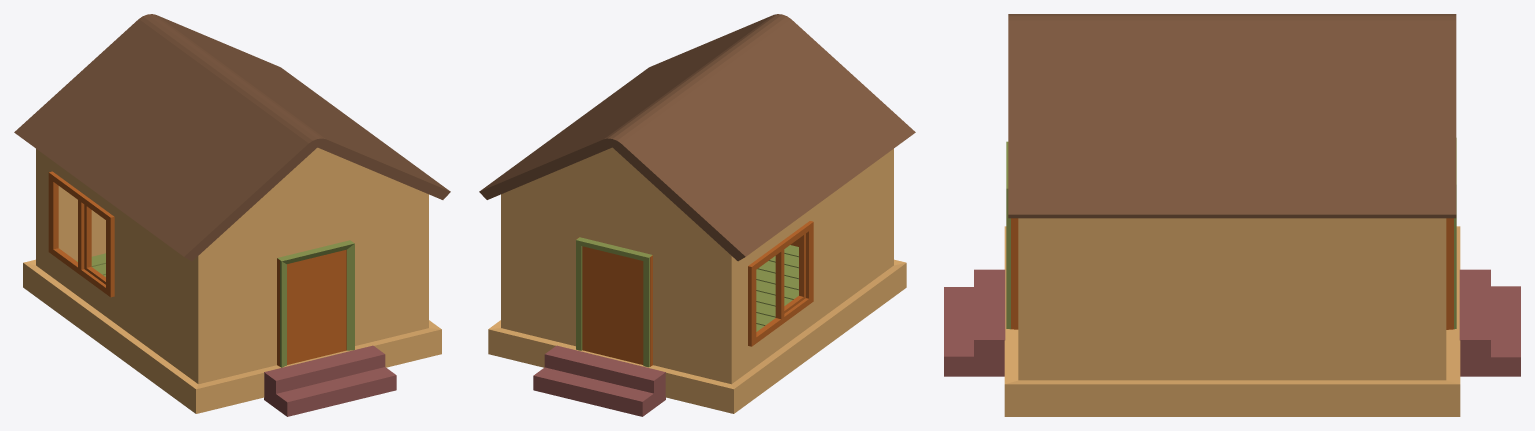
The model's file is Pos 2.fbx.
The picture shows the model from 3 angles, left to right: view 1: azimuth 30°, elevation 25°; view 2: azimuth 150°, elevation 25°; view 3: azimuth 270°, elevation 25°; orthographic projection. The views are drawn at different scales.
Visible parts, largest first — view 1: Atap, TembokS, Tembok1, Bangunan, Roll1, Tangga2, Jendela, Pintu; view 2: Atap, TembokS1, Tembok1, Bangunan, Roll, Tangga, Jendela, Pintu2, Lantai; view 3: Atap, Tembok, Bangunan, Tangga, Tangga2, TembokS1, Roll, Roll1, TembokS, Pintu.
Boxes of the visible parts, x1,y1,x2,y2 form: Atap: [14, 14, 450, 261]; TembokS: [196, 147, 428, 384]; Tembok1: [38, 150, 196, 382]; Bangunan: [23, 186, 441, 413]; Roll1: [277, 249, 346, 366]; Tangga2: [264, 345, 396, 416]; Jendela: [48, 171, 114, 297]; Pintu: [277, 240, 354, 367]; Atap: [479, 14, 915, 261]; TembokS1: [501, 147, 733, 384]; Tembok1: [733, 150, 891, 382]; Bangunan: [488, 259, 906, 413]; Roll: [577, 237, 652, 366]; Tangga: [533, 345, 665, 416]; Jendela: [748, 221, 813, 346]; Pintu2: [576, 237, 652, 367]; Lantai: [756, 245, 798, 331]; Atap: [1008, 14, 1456, 218]; Tembok: [1023, 218, 1440, 380]; Bangunan: [1004, 226, 1460, 416]; Tangga: [1459, 269, 1520, 376]; Tangga2: [944, 269, 1005, 376]; TembokS1: [1440, 218, 1446, 380]; Roll: [1446, 218, 1453, 329]; Roll1: [1011, 218, 1018, 329]; TembokS: [1018, 218, 1022, 380]; Pintu: [1006, 141, 1010, 329].
Size of the model in its own units: 701 by 619 by 996.
